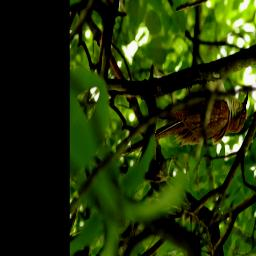Cuckoo: (119, 34, 256, 232)
